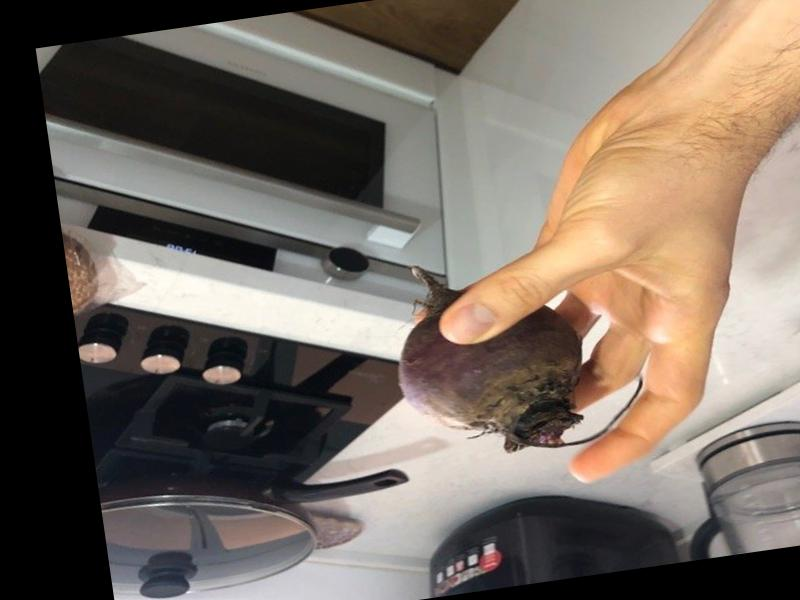Beet: (385, 237, 647, 467)
